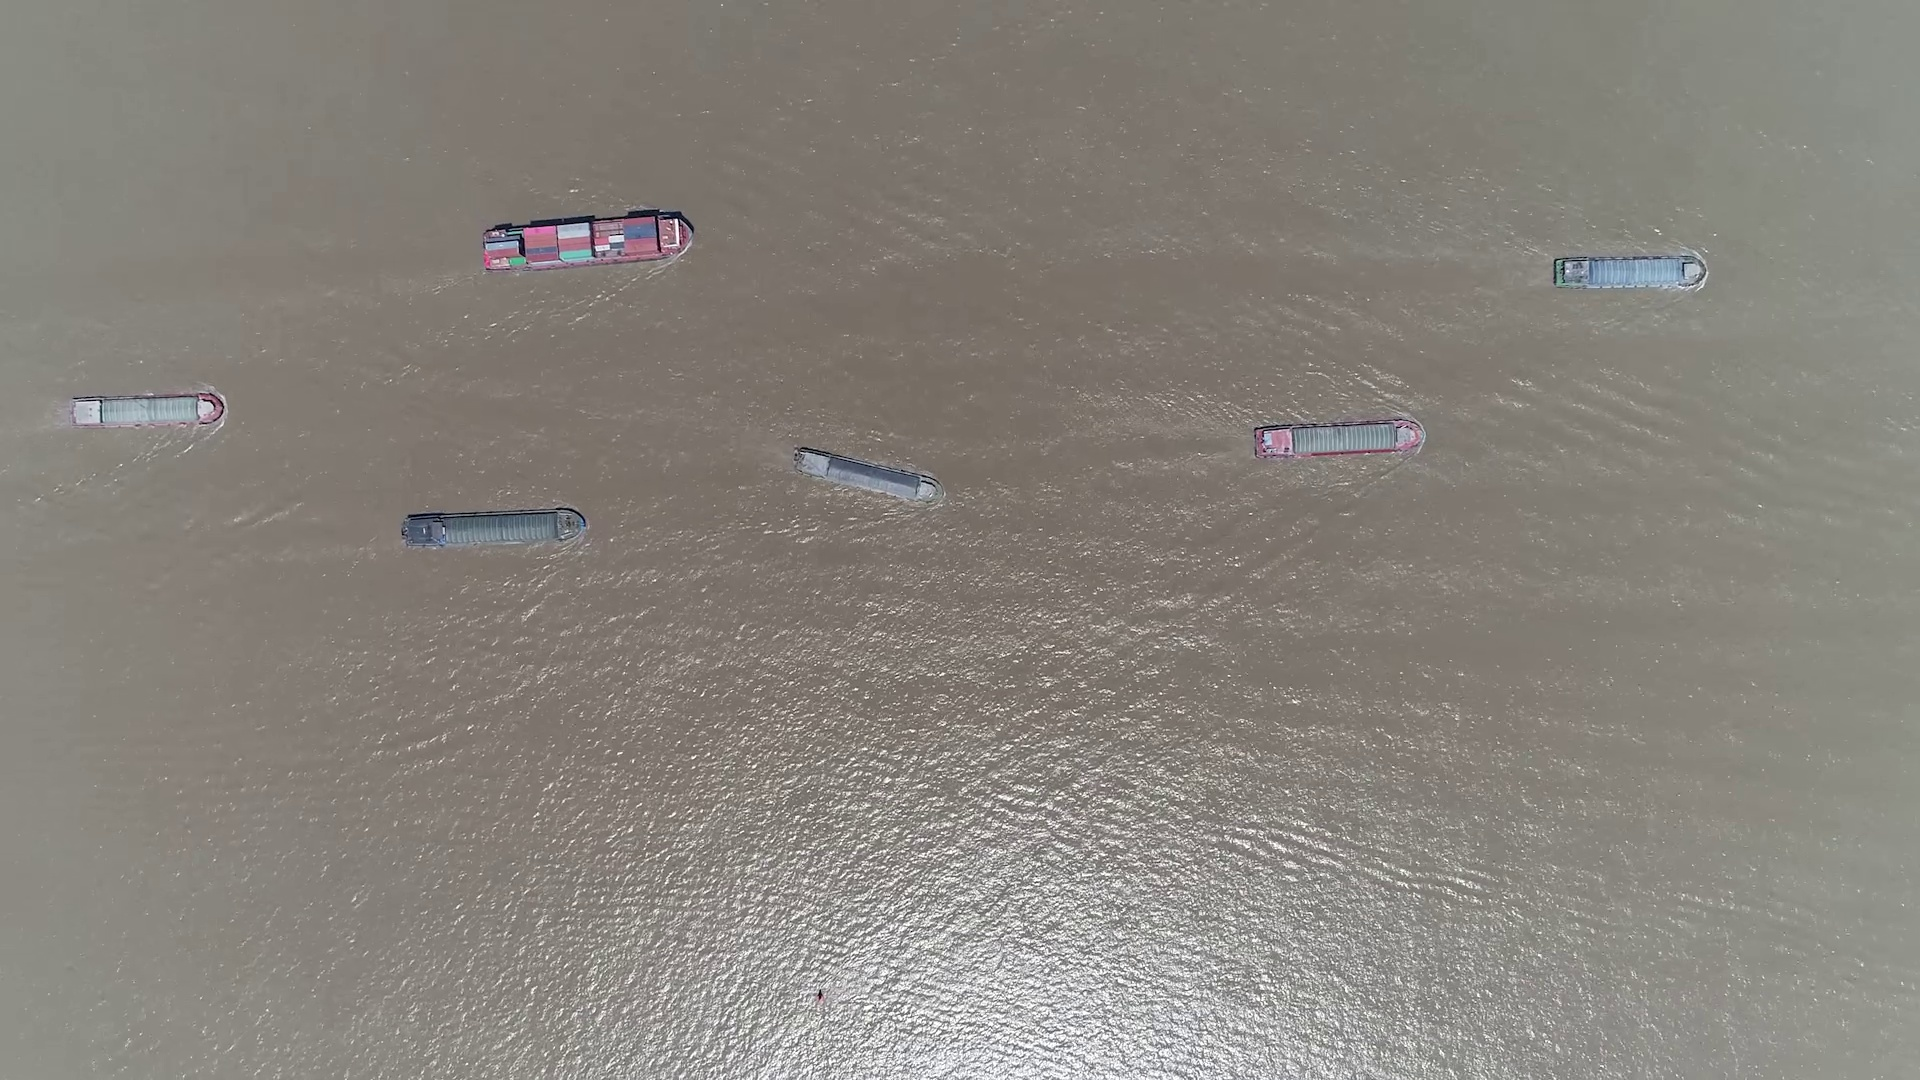ship: (481, 214, 694, 269), (793, 447, 940, 504), (401, 509, 585, 549), (1253, 419, 1425, 458), (69, 394, 224, 429), (1553, 256, 1705, 290)
